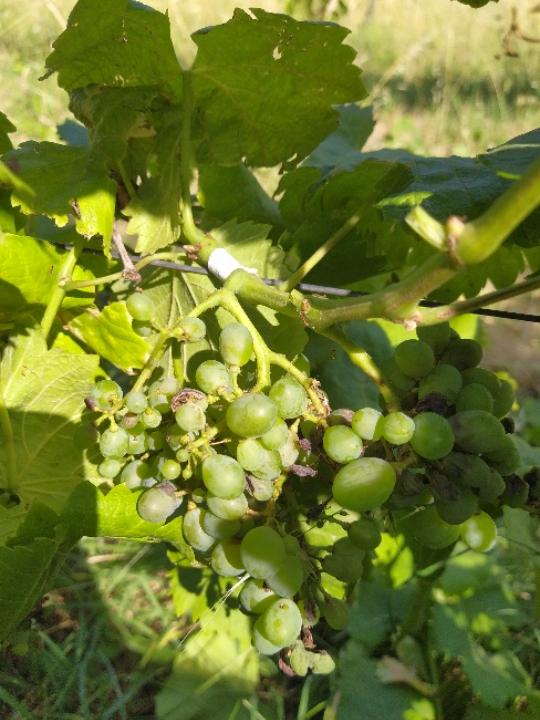grape: (81, 291, 540, 685)
